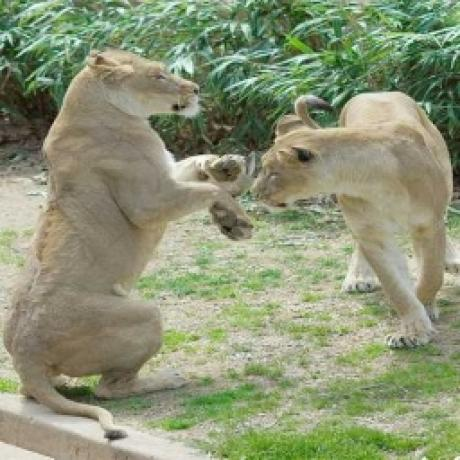Lion: (4, 43, 252, 441), (249, 88, 453, 354)
